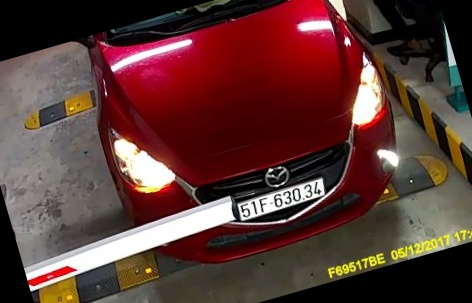plate: (231, 175, 336, 230)
